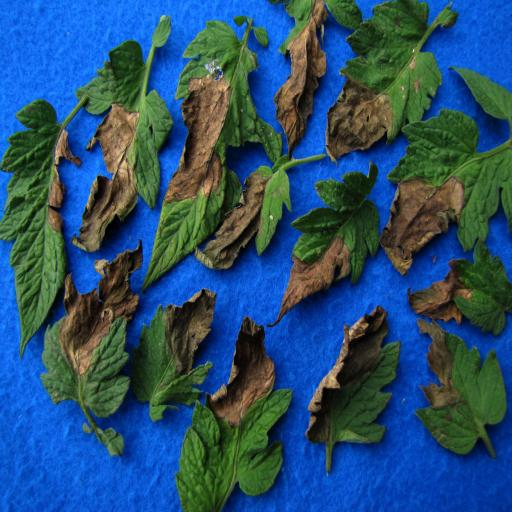Late Blight: (149, 22, 253, 280), (170, 320, 290, 512), (41, 241, 147, 453), (74, 38, 170, 256), (324, 4, 454, 158), (2, 90, 78, 345), (300, 301, 403, 461), (278, 168, 385, 306), (118, 286, 230, 414), (416, 317, 506, 467), (194, 158, 310, 274), (405, 254, 512, 328)
